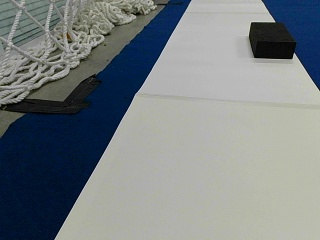block: (248, 21, 295, 58)
